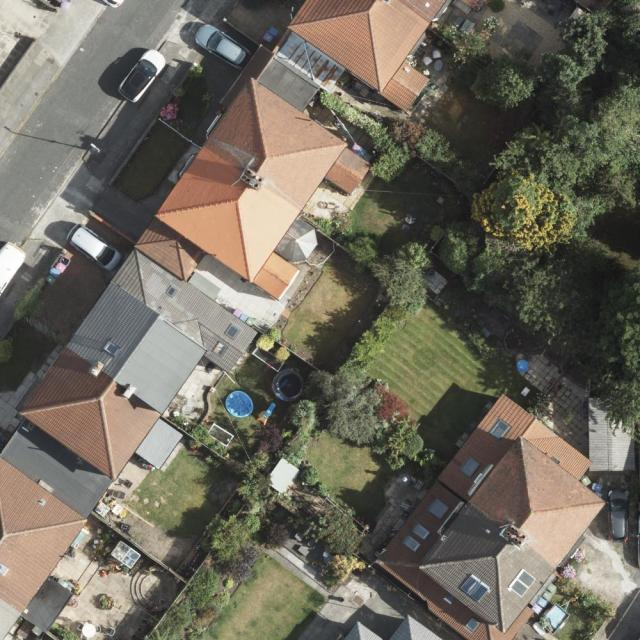roof: (0, 0, 454, 640), (375, 393, 635, 640), (388, 615, 443, 640), (340, 620, 383, 640)
skylight: (488, 417, 512, 442), (460, 455, 482, 480), (428, 499, 450, 519), (224, 321, 241, 340), (465, 616, 482, 634), (212, 339, 228, 358), (104, 340, 121, 356), (404, 537, 421, 552), (164, 281, 178, 299), (415, 524, 430, 539)
solar: (460, 574, 491, 604), (509, 567, 535, 597)
